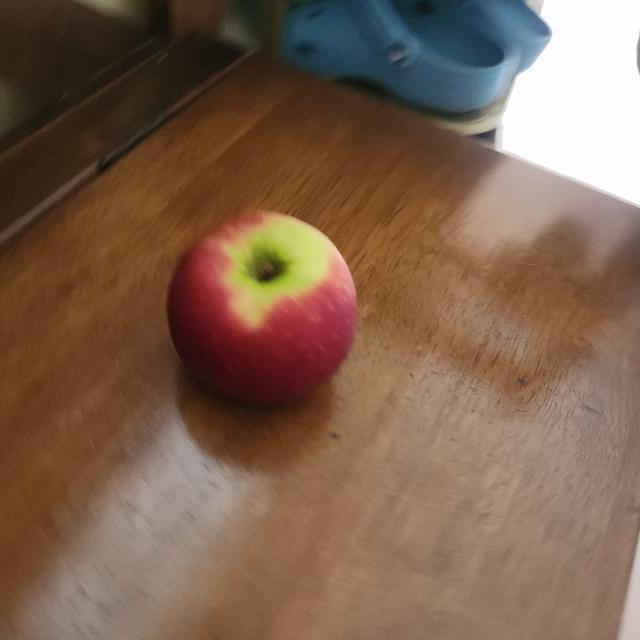apple: (165, 203, 368, 417)
